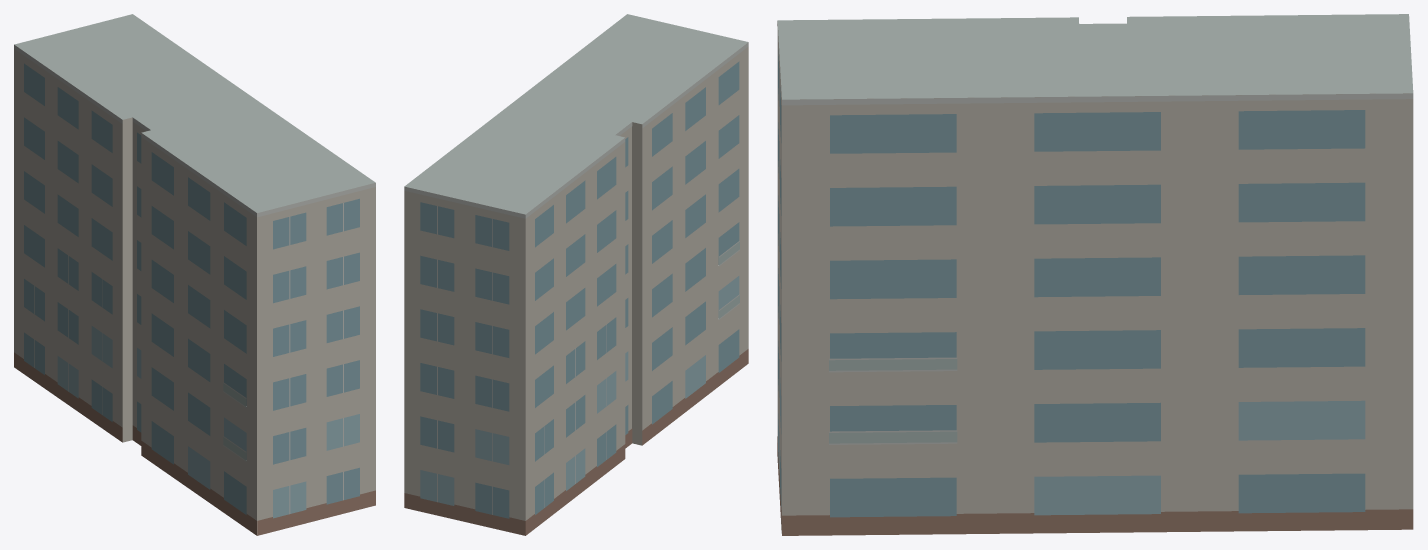
The model's file is survey-upis-32577249.glb.
The picture shows the model from 3 angles, left to right: view 1: azimuth 30°, elevation 25°; view 2: azimuth 150°, elevation 25°; view 3: azimuth 270°, elevation 25°; orthographic projection. The views are drawn at different scales.
Parts seen in each view (by area): view 1: survey-upis-32577249.tmp; view 2: survey-upis-32577249.tmp; view 3: survey-upis-32577249.tmp.
Boxes of the visible parts, box(x1,y1,x2,y2) form: survey-upis-32577249.tmp: box(14, 14, 375, 535); survey-upis-32577249.tmp: box(404, 14, 748, 535); survey-upis-32577249.tmp: box(777, 14, 1413, 535).
Size of the model in its own units: 7.84 by 18.6 by 24.58.
